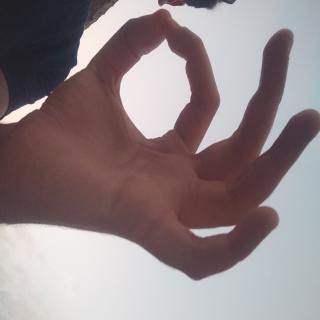Space: (4, 0, 215, 320)
